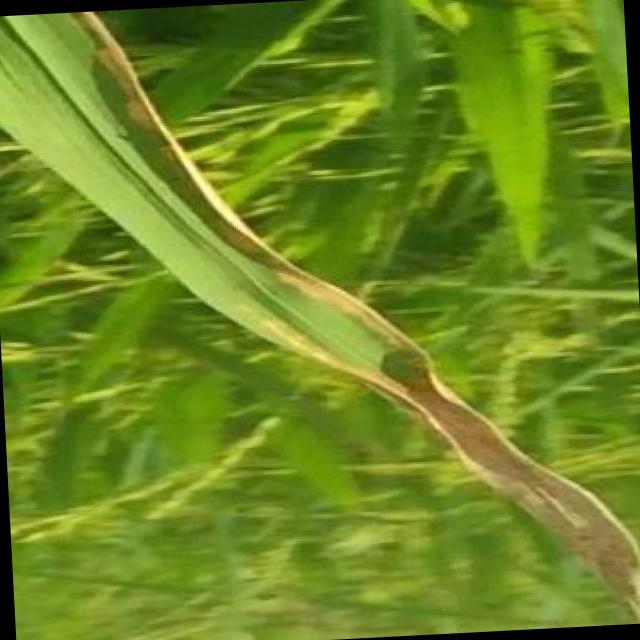Rice_Bacterial_Blight: (226, 266, 419, 391)
